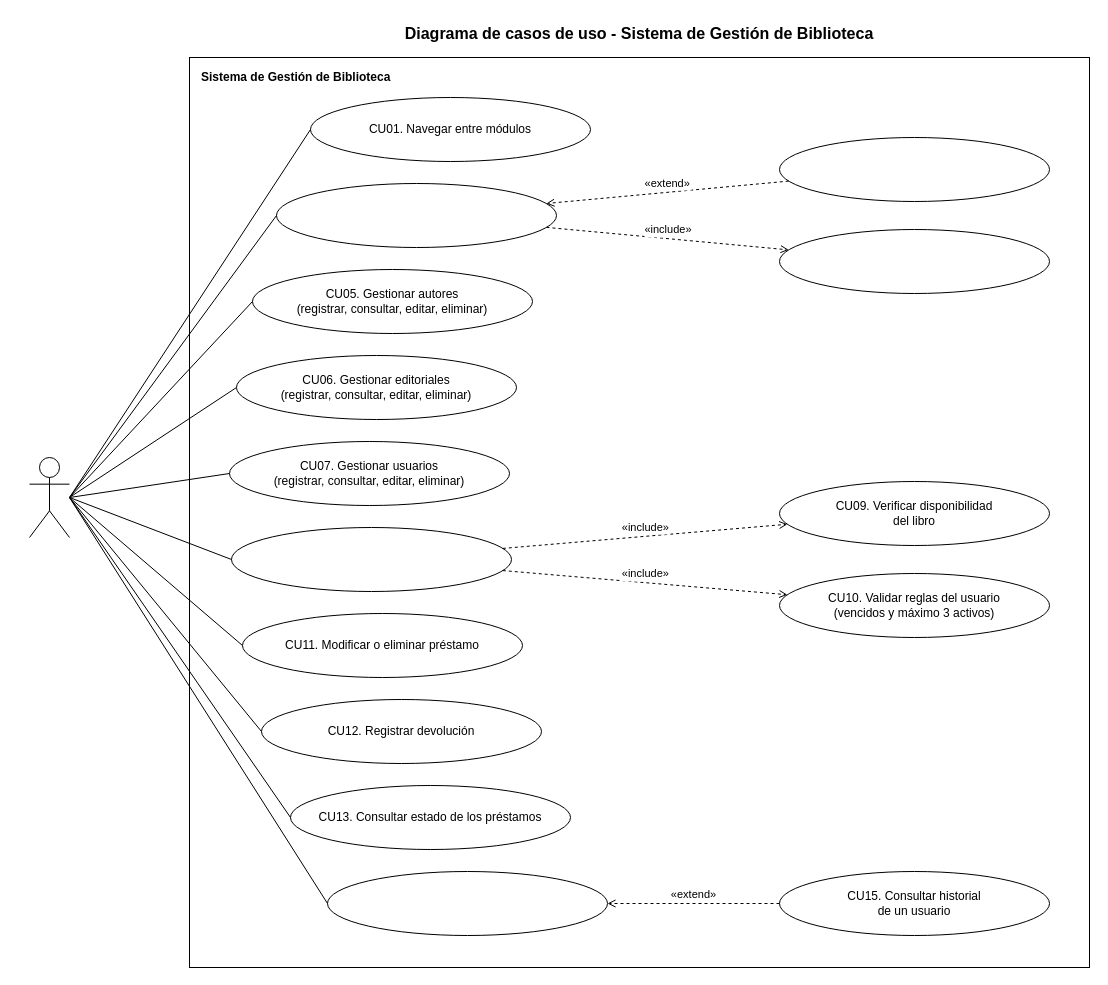
Some shapes in this 1108 by 985 pixel diagram are drawn without their labels. Here are the shapes that lost their labels. From the top down, the centre of each, then its label:
At point 914,169: "CU03. Buscar libros por código, título o autor".
At point 416,215: "CU02. Gestionar libros (registrar, consultar, editar, eliminar)".
At point 914,261: "CU04. Asignar autores y editorial al libro".
At point 49,497: "Bibliotecario".
At point 371,559: "CU08. Registrar préstamo".
At point 467,903: "CU14. Generar reportes".
